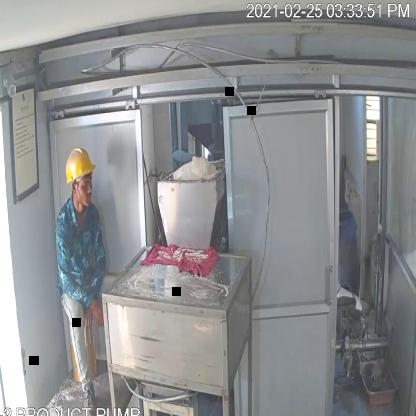helmet: (62, 144, 98, 185)
